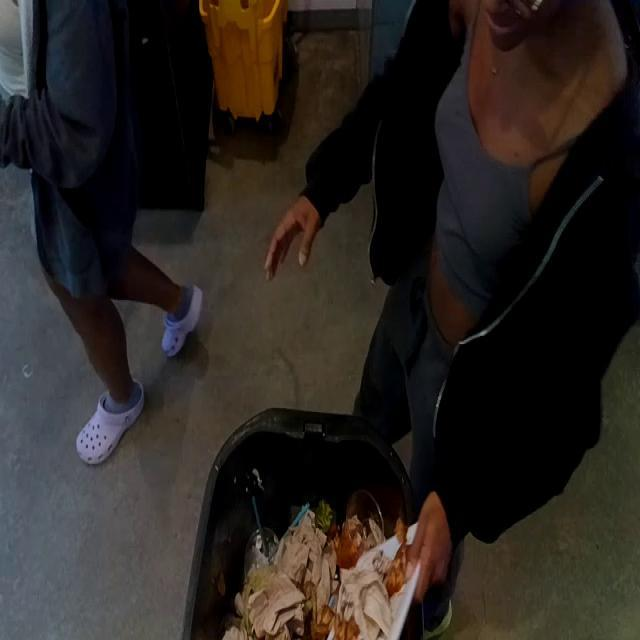Anorganik: (330, 527, 424, 640)
Organik: (382, 522, 412, 597)
